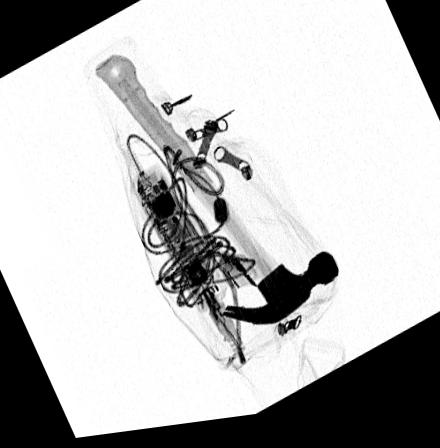Hammer: (94, 58, 340, 334)
